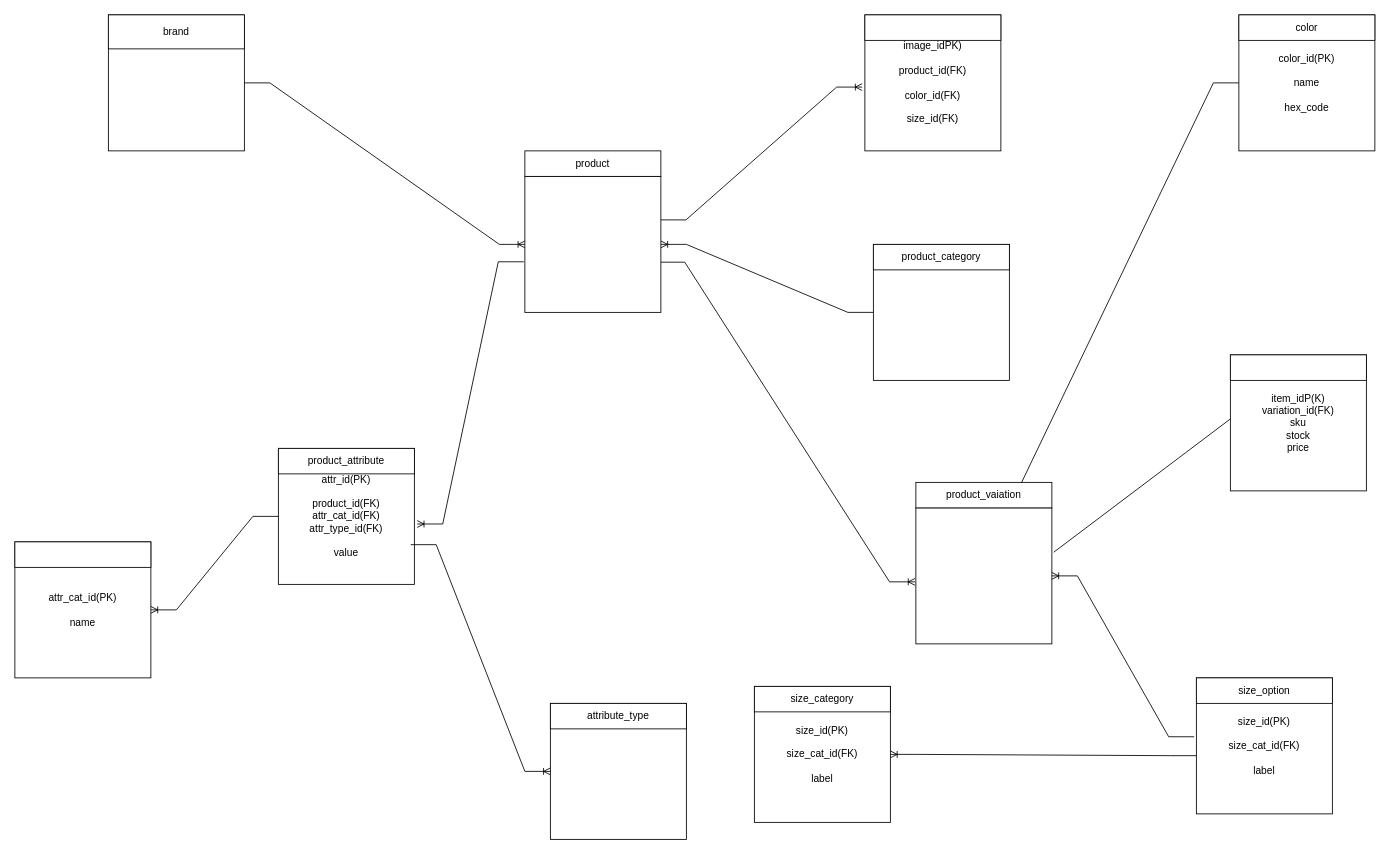
Some shapes in this 1390 by 854 pixel diagram are drawn without their labels. Each missing label, with the box of its shape:
attr_type_id(PK) name: (550, 703, 686, 839)
attribute_category: (14, 541, 151, 567)
brand_id (PK) name description: (108, 14, 244, 151)
category_id (PK ) color_id description: (873, 244, 1009, 380)
product_id(PK) brand_id(FK) category_id(FK) name description base_price: (524, 176, 661, 312)
product_image: (864, 14, 1001, 40)
product_item: (1230, 354, 1366, 380)
variation_id product_id(FK) color_id(FK) size_id(FK): (915, 507, 1052, 644)
